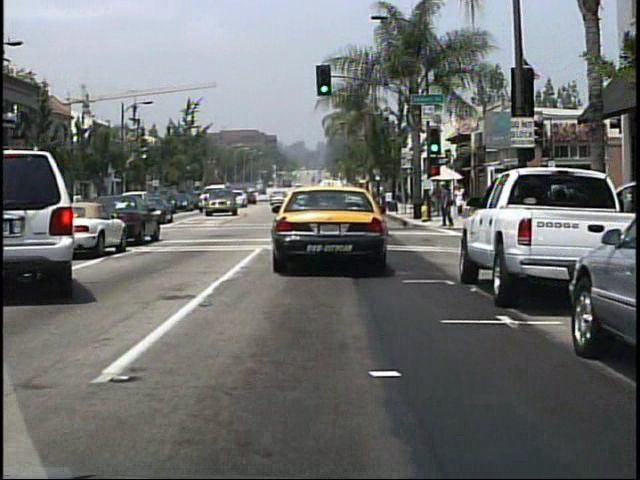person: (439, 182, 453, 228), (432, 182, 444, 218), (454, 181, 466, 215)
